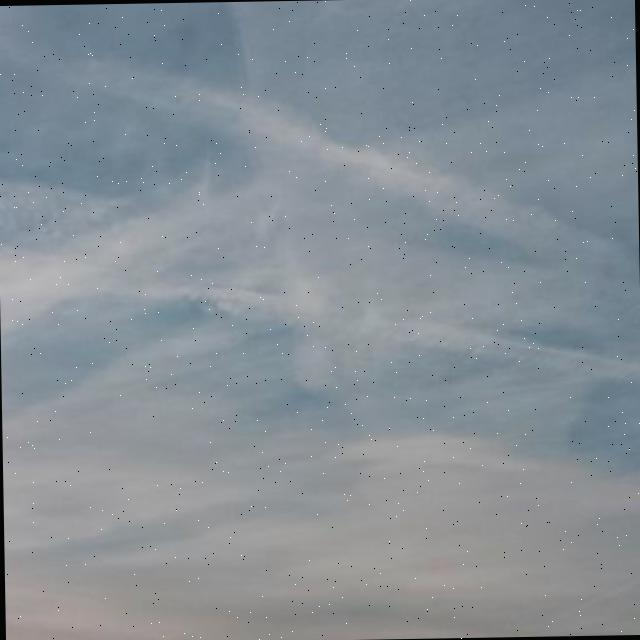Ct: (1, 16, 640, 574)
